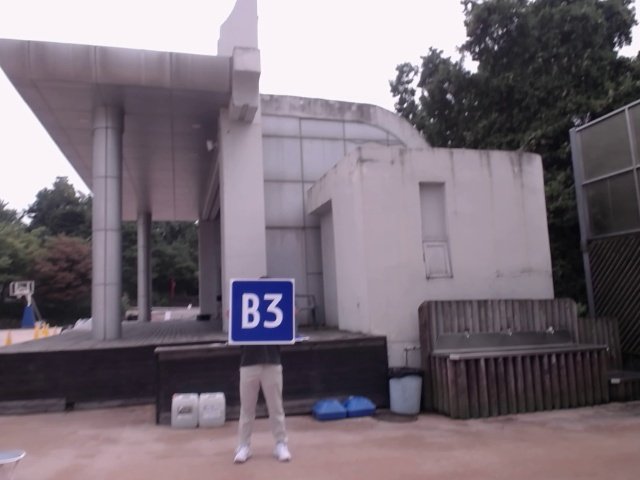delivery_b3: (230, 279, 294, 343)
